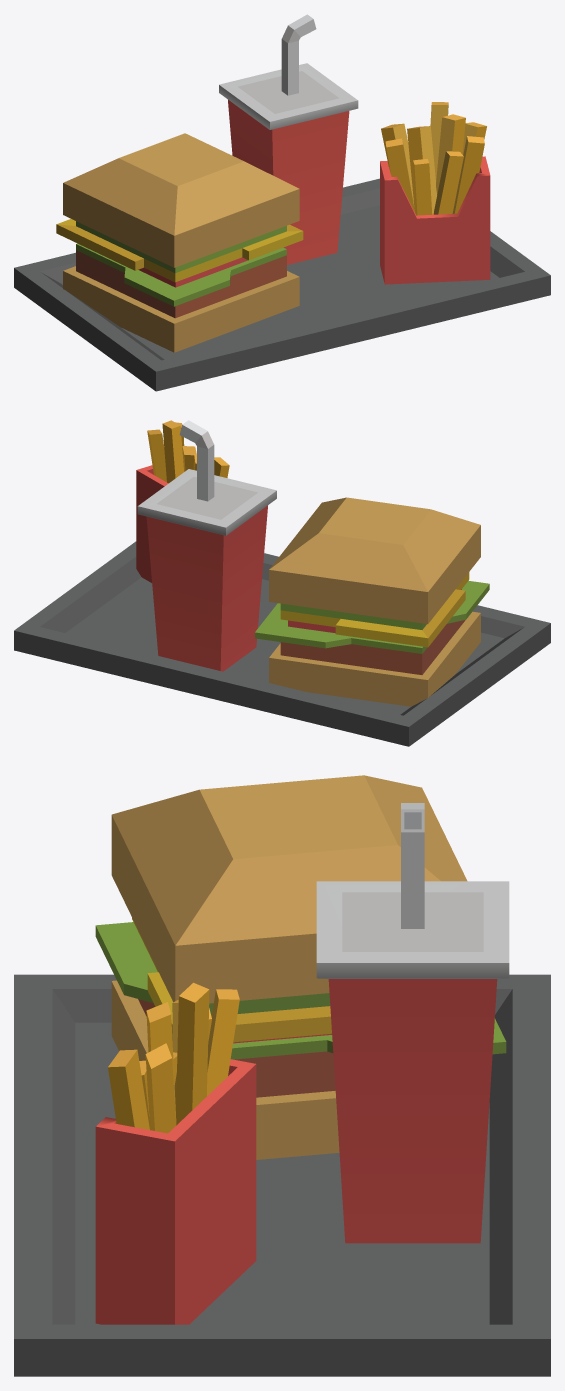
Rendered from inhand_cafe.fbx.
The picture shows the model from 3 angles, top to bottom: view 1: azimuth 30°, elevation 25°; view 2: azimuth 150°, elevation 25°; view 3: azimuth 270°, elevation 25°; orthographic projection. The views are drawn at different scales.
Visible parts, largest first — view 1: burger, tray, bulvas, cola; view 2: burger, tray, cola, bulvas; view 3: tray, burger, cola, bulvas.
Boxes of the visible parts, <box> form: burger: <box>56,133,303,352</box>; tray: <box>14,178,550,391</box>; bulvas: <box>380,102,490,284</box>; cola: <box>219,14,358,264</box>; burger: <box>255,497,489,706</box>; tray: <box>14,541,550,746</box>; cola: <box>137,420,276,671</box>; bulvas: <box>136,420,229,582</box>; tray: <box>14,974,550,1376</box>; burger: <box>95,775,506,1159</box>; cola: <box>316,803,509,1243</box>; bulvas: <box>95,982,256,1324</box>.
Size of the model in its own units: 1.2 by 0.7487 by 0.6814.
